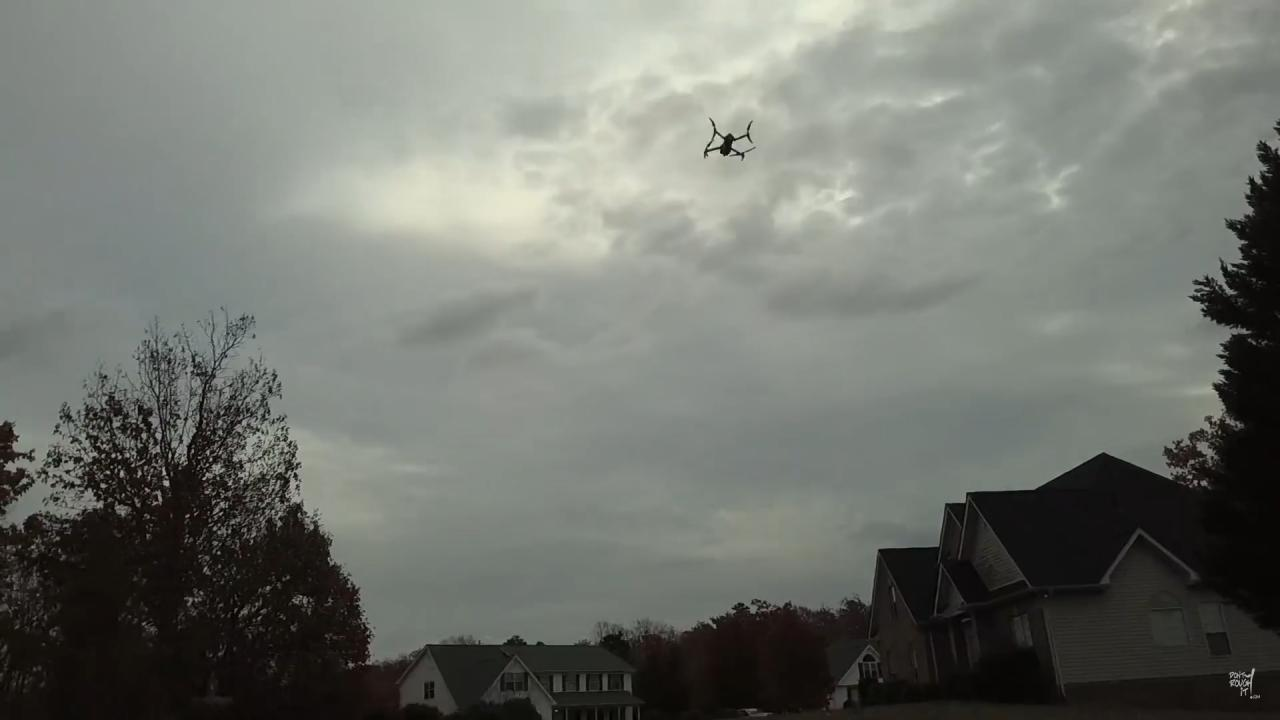Drone: (690, 109, 765, 172)
